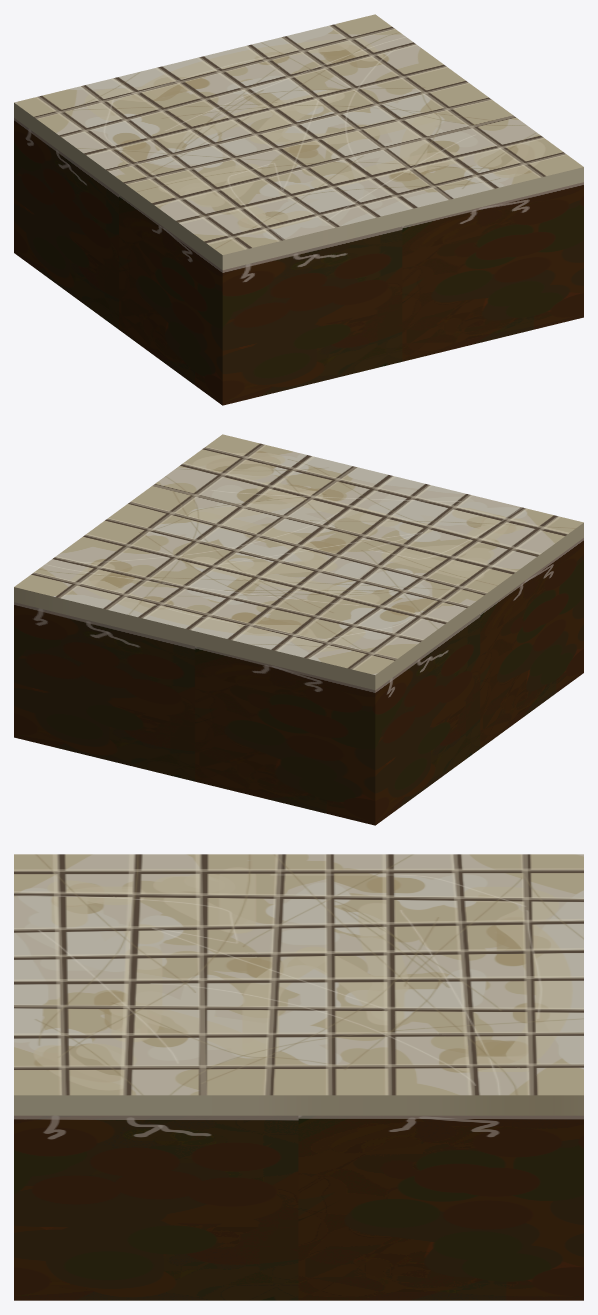
Rendered from ParedNormal.fbx.
3 views of the same model, one above another, from view 1: azimuth 30°, elevation 25°; view 2: azimuth 150°, elevation 25°; view 3: azimuth 270°, elevation 25° (orthographic). The views are drawn at different scales.
Visible parts, largest first — view 1: Cube.005; view 2: Cube.005; view 3: Cube.005.
Part boxes in pixels (x1=…): Cube.005: x1=14, y1=14, x2=583, y2=405; Cube.005: x1=14, y1=434, x2=583, y2=825; Cube.005: x1=14, y1=854, x2=583, y2=1300.
Bounding box in the file's own units: 1057 × 421 × 1057.
3 materials, 2 textured.
